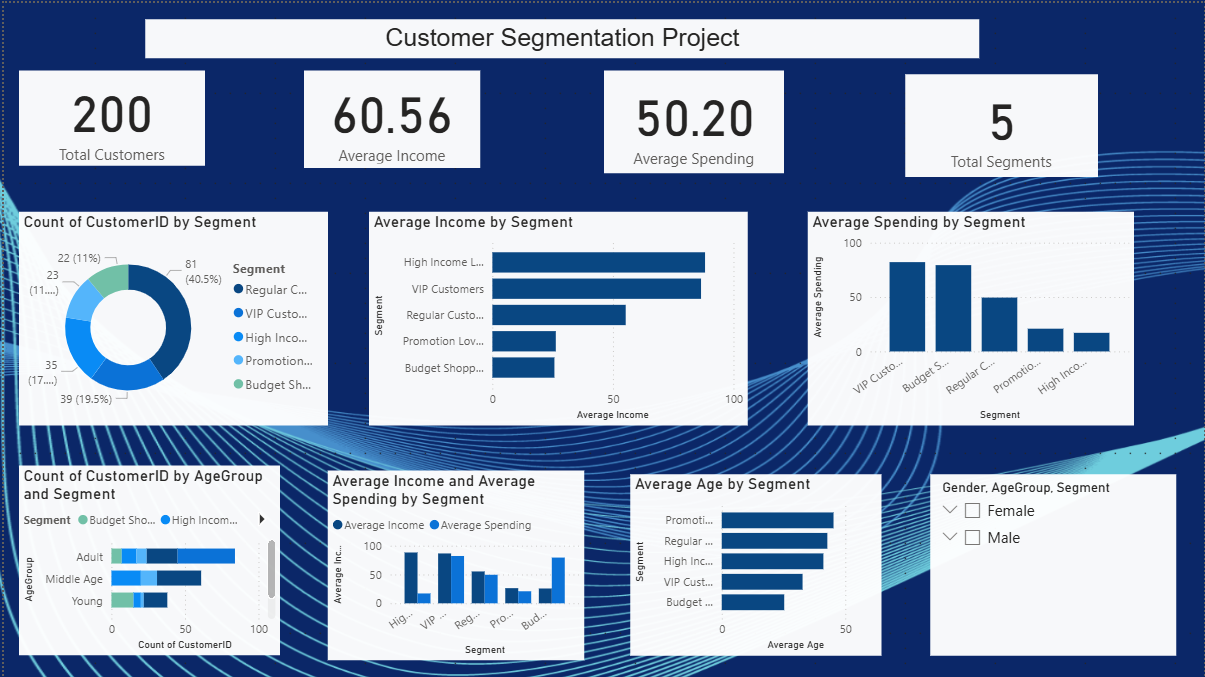

This screenshot's page, from the dashboard's own definition file:
{"tool":"powerbi","page":{"name":"Page 1","canvas":[1280,720],"ordinal":0},"visuals":[{"type":"textbox","box":[150.2,17.2,889.8,41.8],"z":0},{"type":"card","fields":{"Values":["Customer_Segmentation_Final.Total Segments"]},"box":[961.3,76,205.3,109.3],"z":1000},{"type":"card","fields":{"Values":["Customer_Segmentation_Final.Average Spending"]},"box":[640,72,192,109.3],"z":2000},{"type":"card","fields":{"Values":["Customer_Segmentation_Final.Average Income"]},"box":[320,72,188,104],"z":3000},{"type":"card","fields":{"Values":["Customer_Segmentation_Final.Total Customers"]},"box":[16,72,198.7,101.3],"z":3001},{"type":"donutChart","fields":{"Category":["Customer_Segmentation_Final.Segment"],"Y":["CountNonNull(Customer_Segmentation_Final.CustomerID)"]},"box":[16,222.7,329.3,228],"z":3002},{"type":"clusteredBarChart","fields":{"Category":["Customer_Segmentation_Final.Segment"],"Y":["Customer_Segmentation_Final.Average Income"]},"box":[389.3,222.7,404,228],"z":3003},{"type":"columnChart","fields":{"Category":["Customer_Segmentation_Final.Segment"],"Y":["Customer_Segmentation_Final.Average Spending"]},"box":[857.3,222.7,348,228],"z":3004},{"type":"barChart","fields":{"Category":["Customer_Segmentation_Final.Segment"],"Y":["Customer_Segmentation_Final.Average Age"]},"box":[668,502.7,268,193.3],"z":3005},{"type":"clusteredColumnChart","fields":{"Y":["Customer_Segmentation_Final.Average Income","Customer_Segmentation_Final.Average Spending"],"Category":["Customer_Segmentation_Final.Segment"]},"box":[345.3,498.7,273.3,202.7],"z":3006},{"type":"barChart","fields":{"Series":["Customer_Segmentation_Final.Segment"],"Y":["CountNonNull(Customer_Segmentation_Final.CustomerID)"],"Category":["Customer_Segmentation_Final.AgeGroup"]},"box":[16,493.3,278.7,202.7],"z":3007},{"type":"slicer","fields":{"Values":["Customer_Segmentation_Final.Gender","Customer_Segmentation_Final.AgeGroup","Customer_Segmentation_Final.Segment"]},"box":[988,502.7,262.7,193.3],"z":3008}]}

Visuals, with their boxes in screenshot pixels (x1, y1, x2, y2), scaled from the page's 1280x720 canvas onto the 1205x677 screenshot:
textbox: 141, 16, 979, 55
card - Customer_Segmentation_Final.Total Segments: 905, 71, 1098, 174
card - Customer_Segmentation_Final.Average Spending: 602, 68, 783, 170
card - Customer_Segmentation_Final.Average Income: 301, 68, 478, 165
card - Customer_Segmentation_Final.Total Customers: 15, 68, 202, 163
donutChart - Customer_Segmentation_Final.Segment x CountNonNull(Customer_Segmentation_Final.CustomerID): 15, 209, 325, 424
clusteredBarChart - Customer_Segmentation_Final.Segment x Customer_Segmentation_Final.Average Income: 366, 209, 747, 424
columnChart - Customer_Segmentation_Final.Segment x Customer_Segmentation_Final.Average Spending: 807, 209, 1135, 424
barChart - Customer_Segmentation_Final.Segment x Customer_Segmentation_Final.Average Age: 629, 473, 881, 654
clusteredColumnChart - Customer_Segmentation_Final.Average Income x Customer_Segmentation_Final.Average Spending: 325, 469, 582, 660
barChart - Customer_Segmentation_Final.Segment x CountNonNull(Customer_Segmentation_Final.CustomerID): 15, 464, 277, 654
slicer - Customer_Segmentation_Final.Gender x Customer_Segmentation_Final.AgeGroup: 930, 473, 1177, 654
